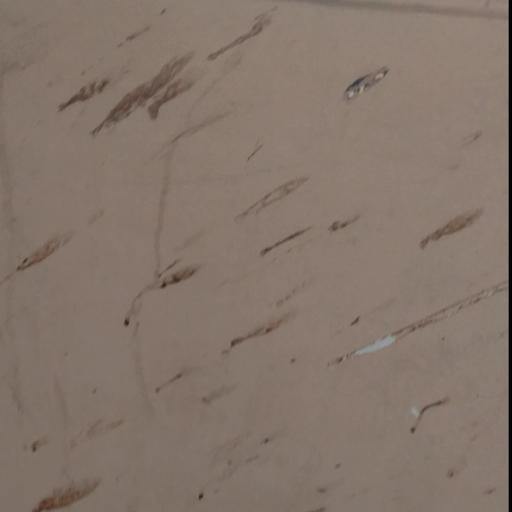stain: (20, 18, 512, 512)
